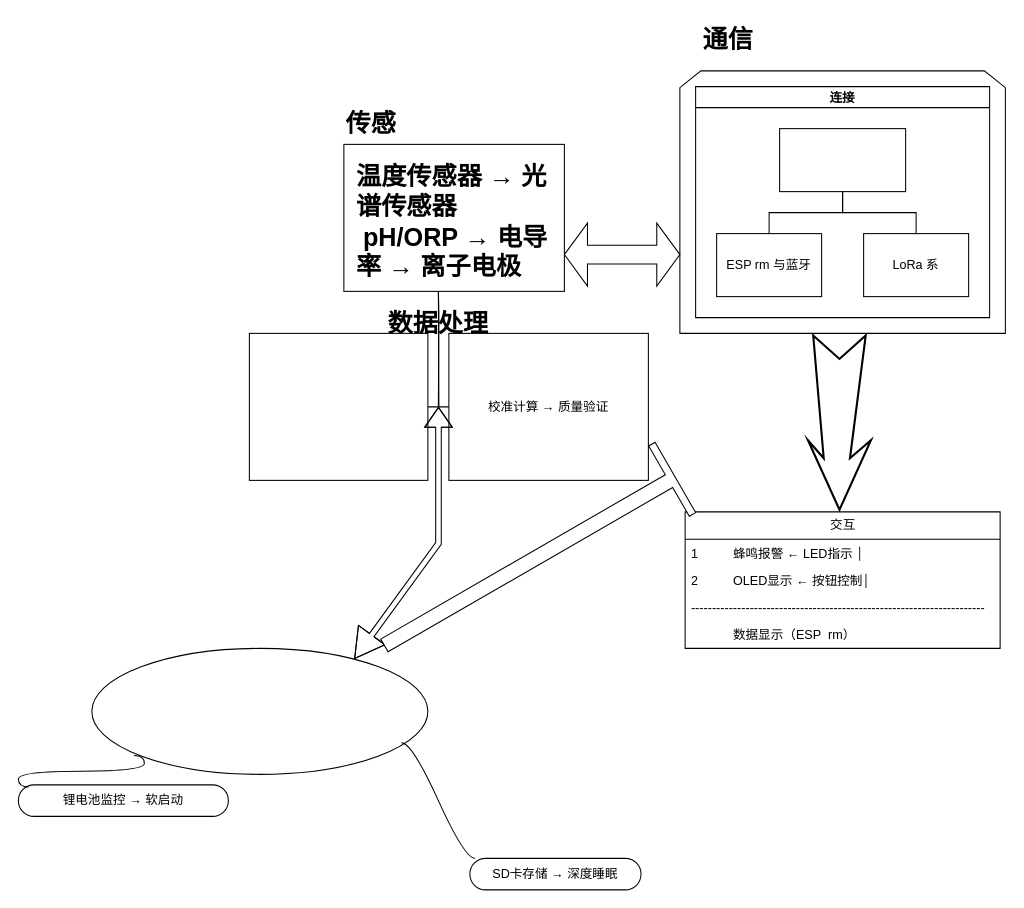
The diagram is 1024 pixels wide and 908 high, and some of its shapes have lost their labels. Each missing label, with the centre of its shape:
RainMaker 和云端: [842,160]
信号调理 → 温度补偿: [338,406]
电池管理与存储: [259,710]
